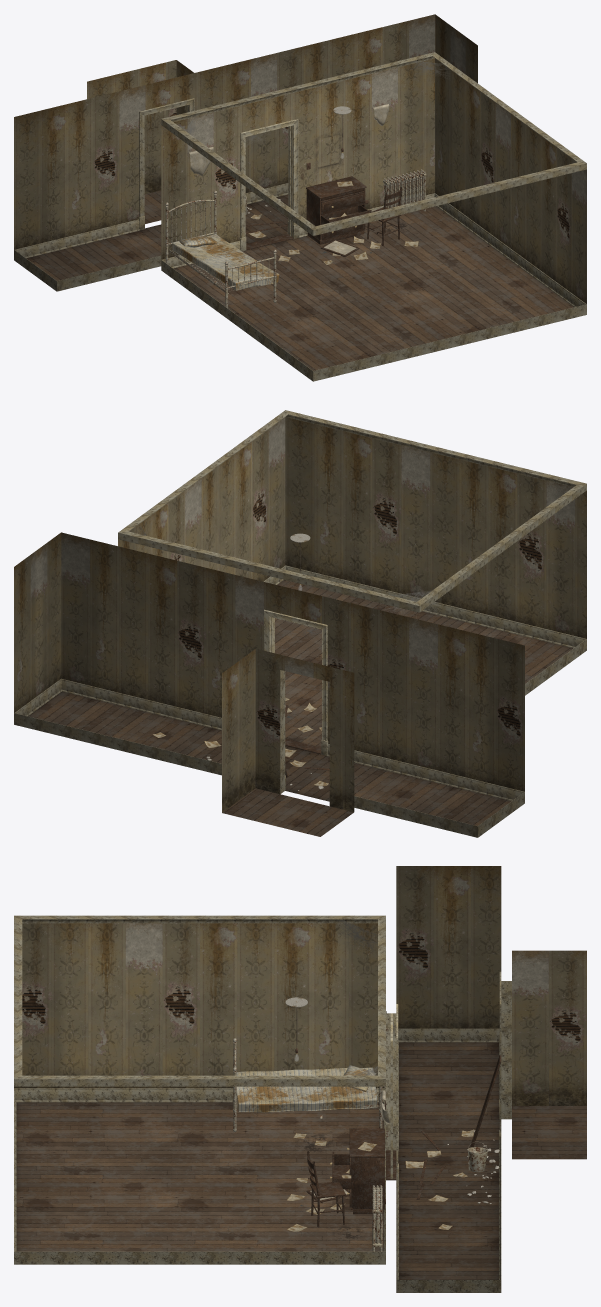
Rendered from room.glb.
The picture shows the model from 3 angles, top to bottom: view 1: azimuth 30°, elevation 25°; view 2: azimuth 150°, elevation 25°; view 3: azimuth 270°, elevation 25°; orthographic projection. The views are drawn at different scales.
Parts seen in each view (by area): view 1: Room, Corridor, Dresser, Bed_Mattress, Bed_IronFrame, Radiator, Papers_Scattered, Wallpaper_Peel, Chair_FacingWall; view 2: Corridor, Room; view 3: Room, Corridor, Bed_Mattress, Dresser, Chair_FacingWall, Radiator, Papers_Scattered, Cobweb_CornerBackLeft, Bed_IronFrame.
Part boxes in pixels (box(x1,y1,x2,y2)): Room: box(161, 52, 586, 381); Corridor: box(14, 14, 477, 291); Dresser: box(306, 176, 371, 244); Bed_Mattress: box(172, 234, 279, 290); Bed_IronFrame: box(165, 190, 276, 307); Radiator: box(378, 169, 426, 211); Papers_Scattered: box(229, 181, 418, 264); Wallpaper_Peel: box(188, 104, 389, 175); Chair_FacingWall: box(367, 187, 401, 245); Corridor: box(14, 532, 524, 837); Room: box(118, 410, 586, 755); Room: box(14, 915, 398, 1264); Corridor: box(396, 866, 586, 1292); Bed_Mattress: box(236, 1067, 377, 1112); Dresser: box(330, 1128, 384, 1214); Chair_FacingWall: box(307, 1151, 345, 1227); Radiator: box(372, 1185, 382, 1251); Papers_Scattered: box(281, 1086, 376, 1231); Cobweb_CornerBackLeft: box(336, 919, 377, 953); Bed_IronFrame: box(233, 1038, 382, 1132).
Bounding box in the file's own units: 8 × 2.79 × 7.7.
19 materials, 13 textured.
